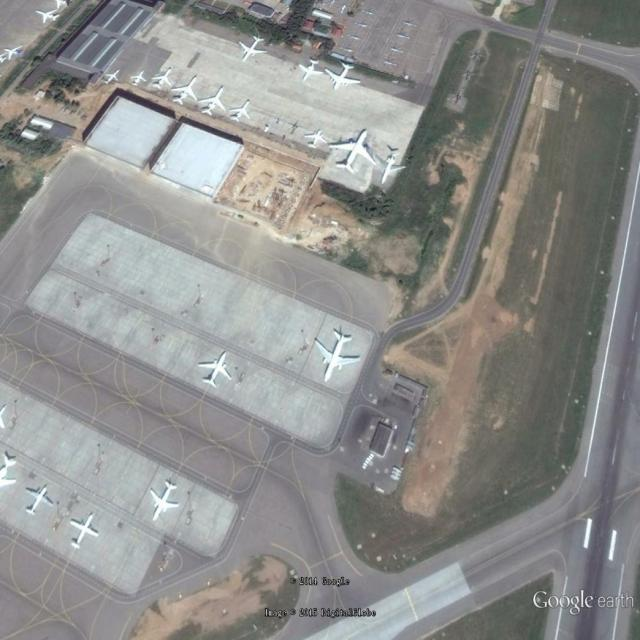aircraft: (312, 328, 364, 385), (329, 127, 378, 176), (148, 479, 184, 526), (372, 145, 407, 190), (197, 351, 235, 390), (325, 58, 363, 93), (70, 511, 101, 553), (196, 83, 227, 118), (24, 486, 56, 518), (238, 35, 270, 66), (173, 74, 199, 108), (226, 98, 253, 126), (296, 57, 325, 83), (2, 451, 20, 492), (303, 127, 330, 153), (151, 67, 173, 93), (35, 9, 60, 26), (3, 45, 26, 62), (130, 69, 148, 89), (101, 69, 120, 87)
